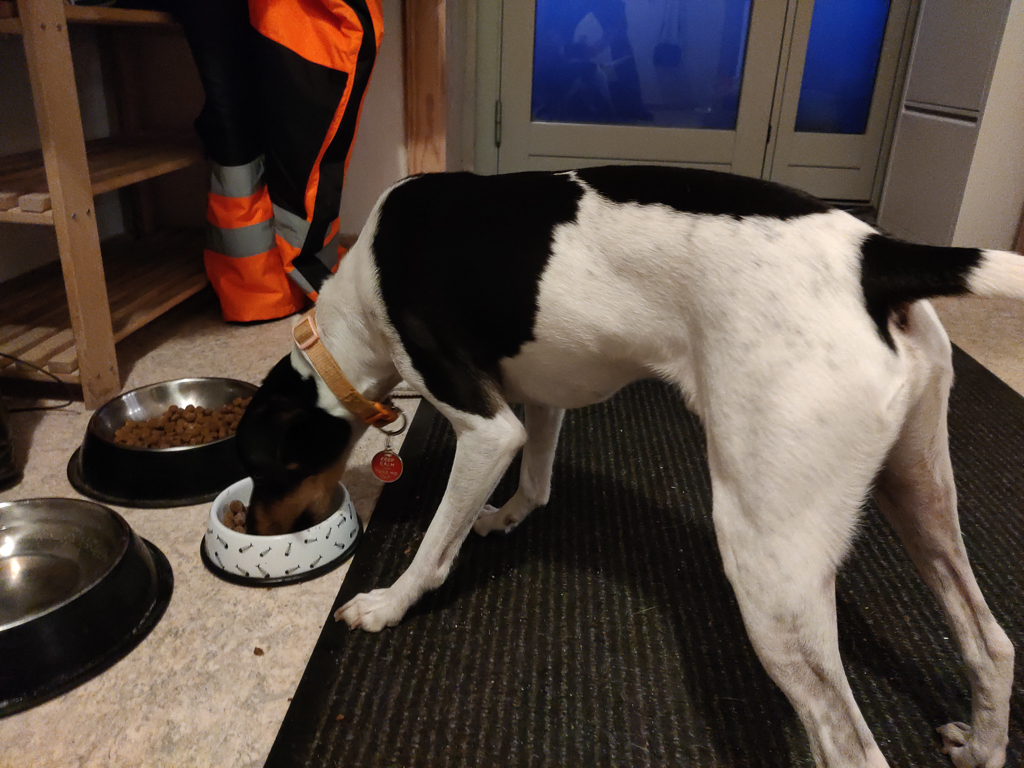Dog: (205, 131, 1024, 768)
